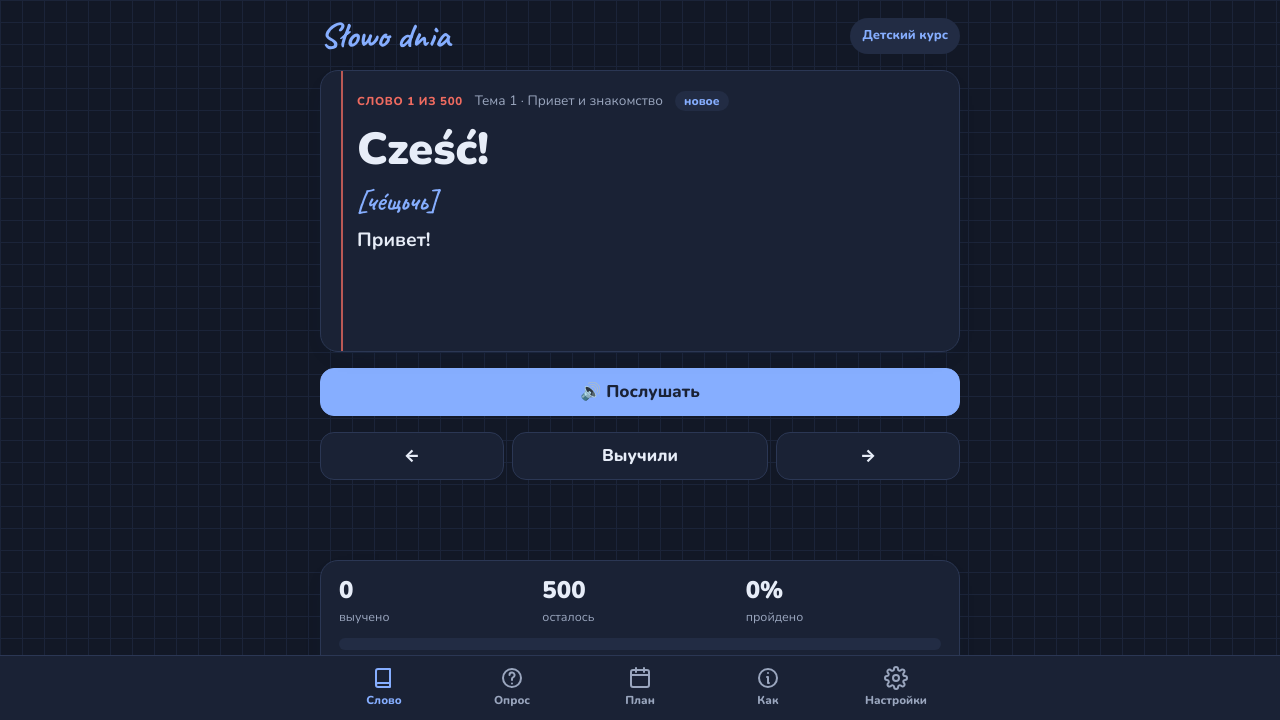
Test case: "Выучили" › marks and unmarks; the word stays; counters, bar and storage follow
Click the button "Выучили": (640, 456) 512,432 -> 768,480
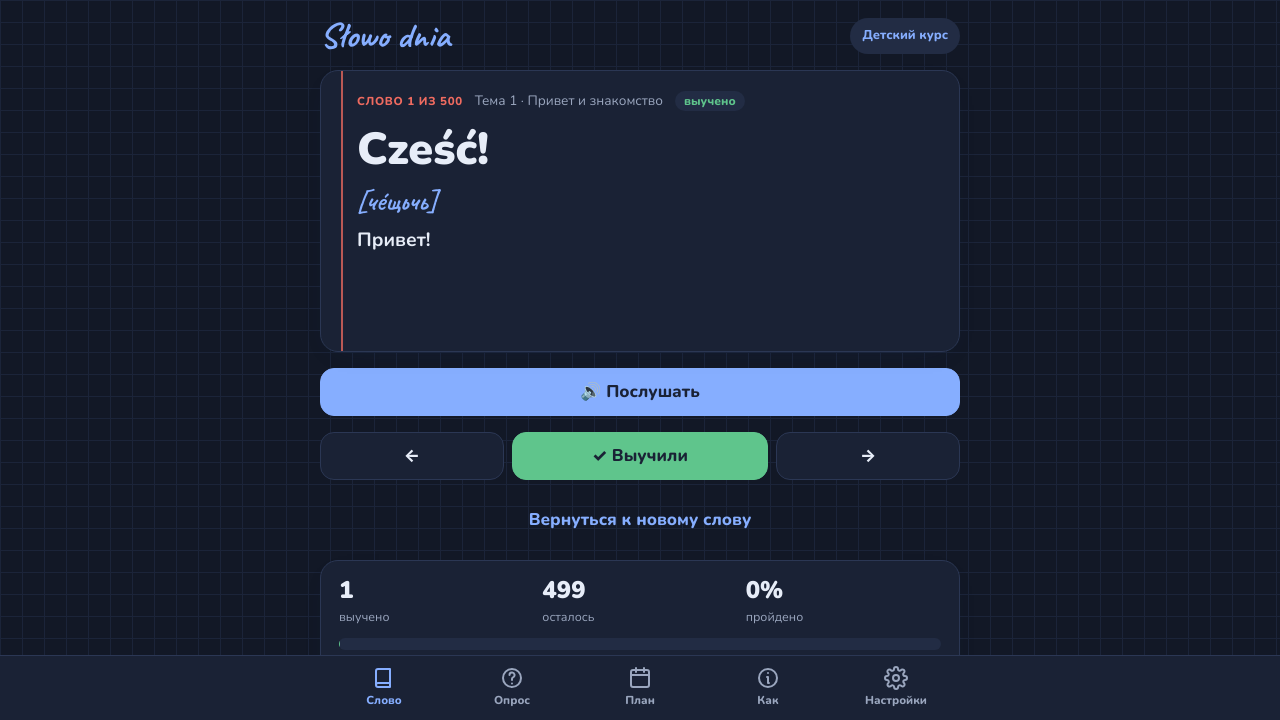
Check: the text "Слово 1 из 500" is shown, box 357,93 -> 463,110
Check: the button "✓ Выучили" is shown
Check: the text "выучено" next to "Тема 1 · Привет и знакомство" is shown, box 684,93 -> 736,109
Click the button "✓ Выучили": (640, 456) 512,432 -> 768,480
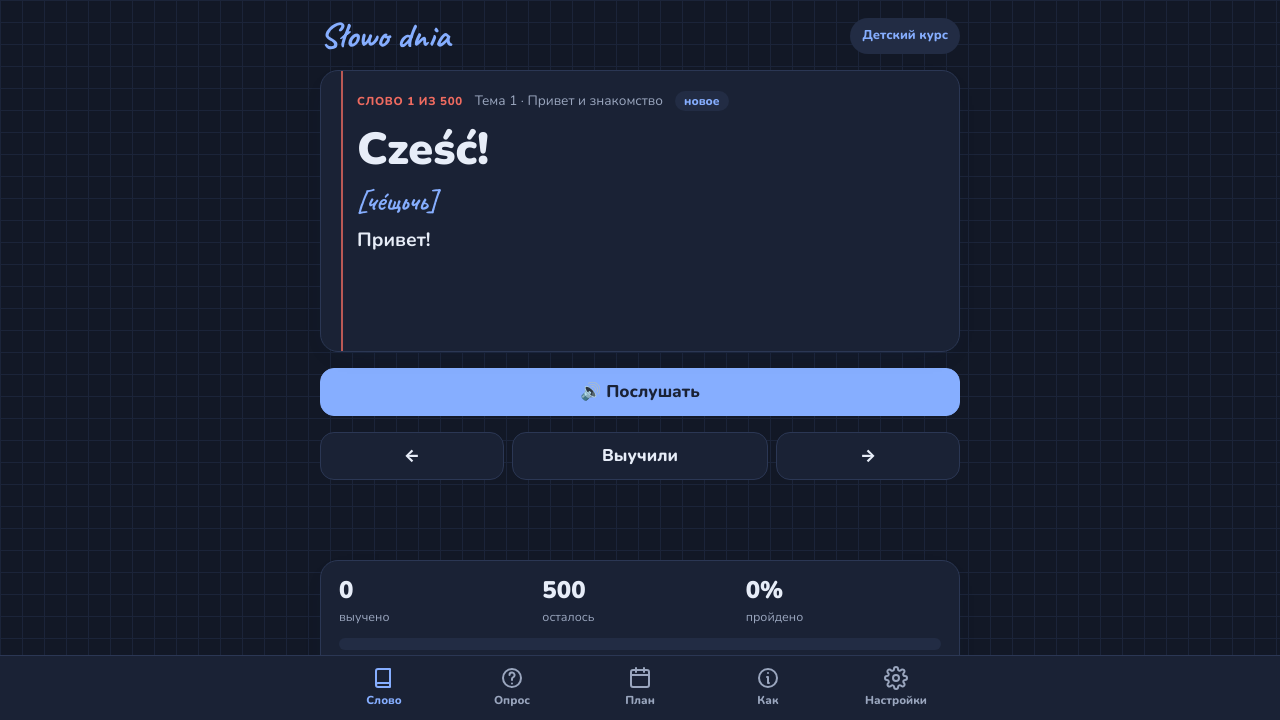
Check: the button "Выучили" is shown, box 512,432 -> 768,480
Check: the text "новое" is shown, box 675,91 -> 729,111
